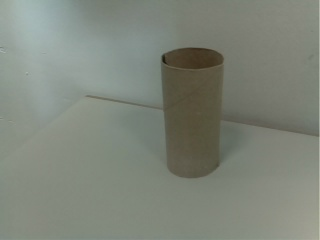rollo papel: (159, 47, 227, 180)
